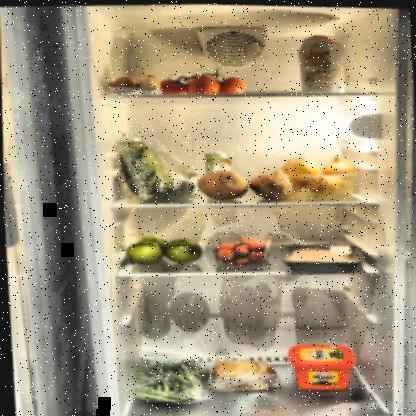apple: (123, 233, 203, 268)
butter: (284, 340, 356, 392)
chicken: (278, 239, 367, 274)
eggs: (109, 72, 162, 95)
green_beans: (129, 354, 210, 407)
heavy_cream: (204, 149, 234, 194)
onion: (275, 151, 356, 201)
spinach: (113, 134, 197, 204)
strawberries: (210, 232, 271, 267)
sweet_potato: (192, 164, 297, 203)
tomato: (153, 71, 248, 97)
